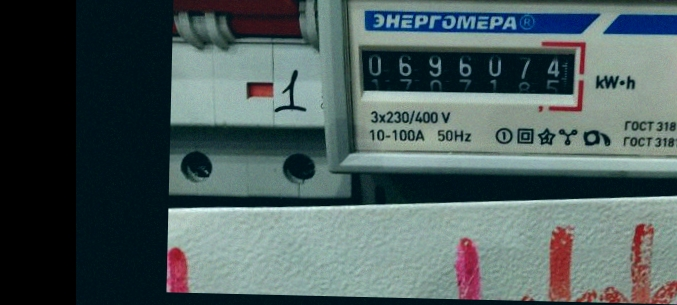0: (365, 51, 384, 76), (487, 52, 503, 78)
4: (545, 54, 561, 76)
5: (545, 79, 562, 94)
6: (458, 52, 475, 78), (397, 52, 414, 77)
7: (517, 54, 534, 79)
9: (427, 52, 443, 78)
screen: (348, 32, 590, 107)
